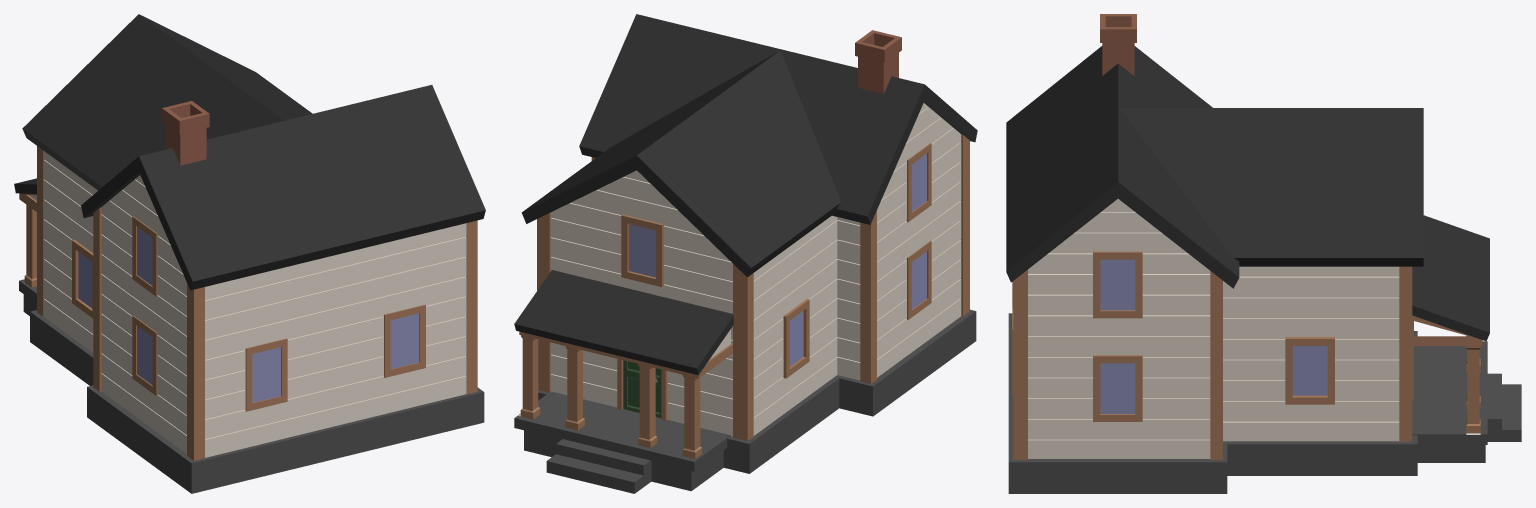
The model's file is House by jrich01 - Fr0oyQzfzk.glb.
The picture shows the model from 3 angles, left to right: view 1: azimuth 30°, elevation 25°; view 2: azimuth 150°, elevation 25°; view 3: azimuth 270°, elevation 25°; orthographic projection. The views are drawn at different scales.
Visible parts, largest first — view 1: House.001; view 2: House.001; view 3: House.001.
Boxes of the visible parts, bbox=[...] form: House.001: bbox=[14, 14, 485, 493]; House.001: bbox=[514, 14, 977, 493]; House.001: bbox=[1006, 14, 1521, 493].
Bounding box in the file's own units: 8.09 × 8.78 × 11.82.
